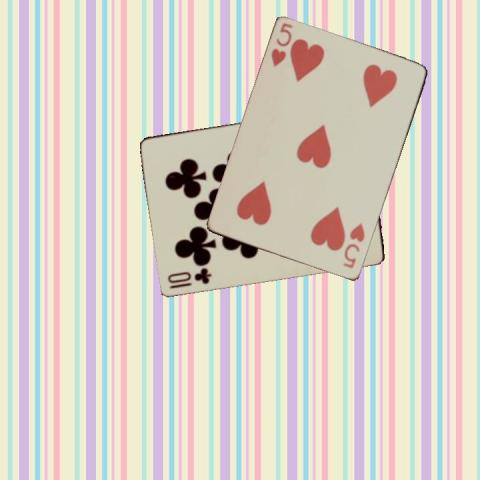10c: (165, 265, 213, 290)
5h: (340, 220, 367, 270), (268, 20, 295, 69)
